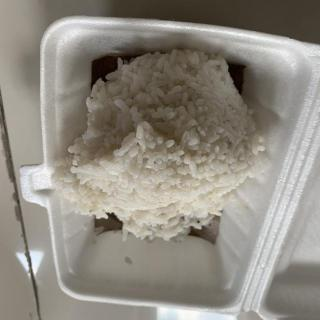Nasi: (57, 47, 263, 241)
